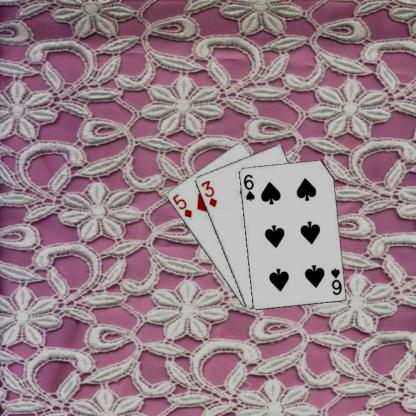3D: (198, 177, 218, 208)
5D: (170, 191, 193, 219)
6S: (328, 265, 343, 296), (241, 172, 255, 202)
